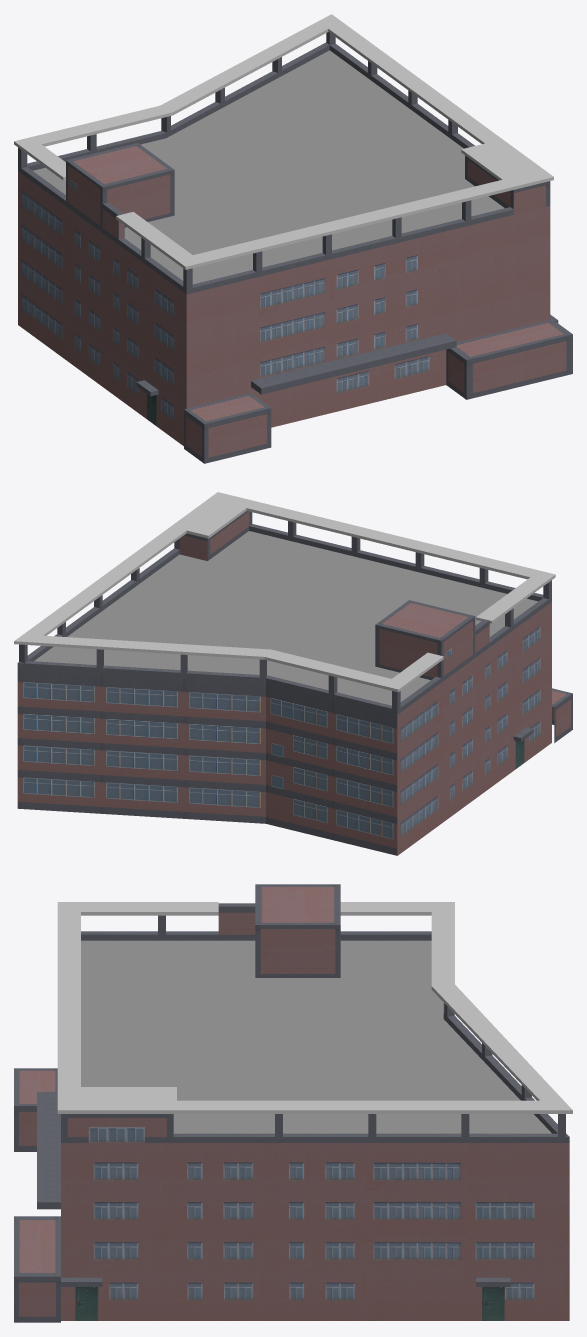
Rendered from side building14.FBX.
The picture shows the model from 3 angles, top to bottom: view 1: azimuth 30°, elevation 25°; view 2: azimuth 150°, elevation 25°; view 3: azimuth 270°, elevation 25°; orthographic projection. The views are drawn at different scales.
Visible parts, largest first — view 1: Object15; view 2: Object15; view 3: Object15.
Boxes of the visible parts, x1,y1,x2,y2 form: Object15: (14, 14, 572, 463); Object15: (14, 492, 572, 855); Object15: (14, 884, 572, 1322).
Bounding box in the file's own units: 38.11 × 41.97 × 19.15.
